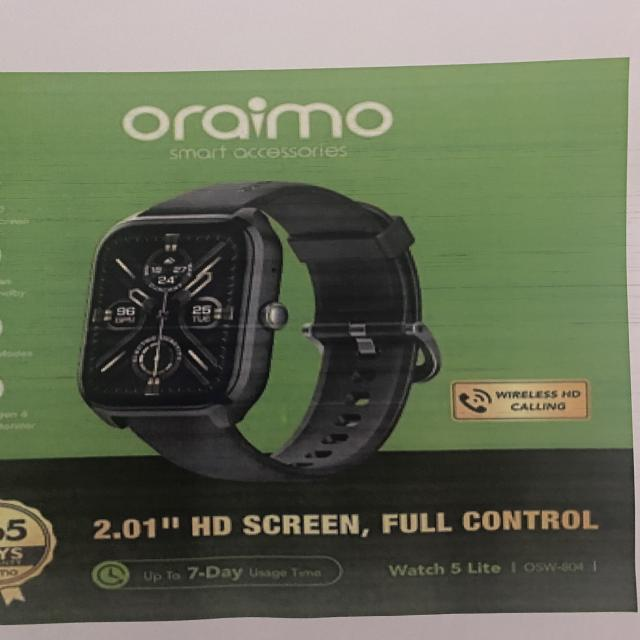Watch 5 Lite OSW-804: (380, 557, 601, 583)
